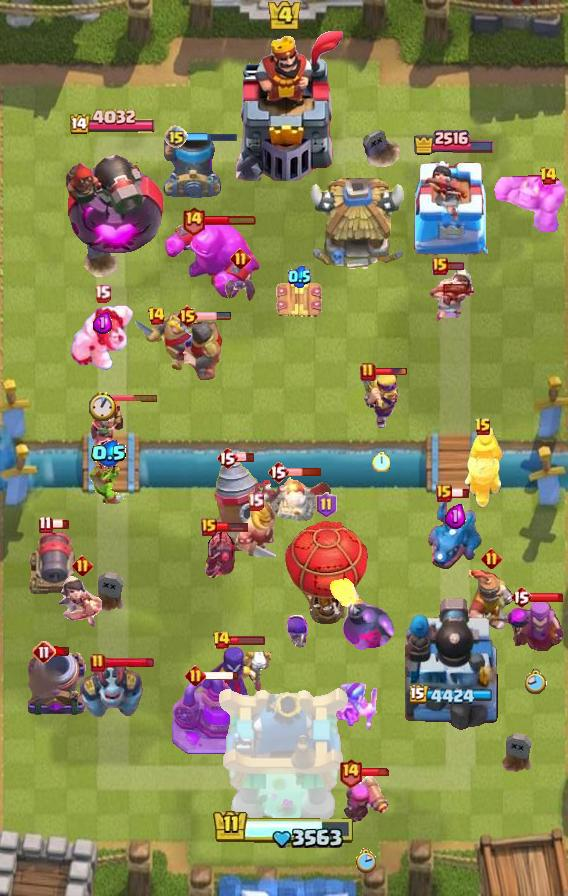bar: (104, 656, 155, 669), (204, 214, 257, 226), (186, 131, 238, 143), (105, 393, 159, 402), (203, 670, 240, 681), (229, 635, 266, 646), (215, 521, 248, 533), (530, 592, 564, 603), (196, 311, 232, 321), (287, 467, 322, 477), (374, 367, 408, 377), (360, 767, 392, 777), (50, 518, 70, 530), (450, 487, 470, 499), (236, 452, 255, 463), (446, 261, 465, 271), (54, 646, 71, 657)
bar-level: (338, 757, 363, 788), (181, 205, 206, 236), (32, 640, 56, 664), (164, 125, 188, 149), (176, 304, 199, 328), (316, 492, 337, 518), (510, 585, 532, 609), (267, 460, 289, 484), (216, 446, 238, 470), (185, 665, 206, 686), (72, 555, 93, 576), (481, 548, 502, 569), (230, 248, 251, 269), (212, 630, 231, 650), (147, 306, 166, 326), (539, 166, 558, 186), (474, 417, 492, 437), (247, 492, 264, 511), (94, 284, 111, 303), (90, 653, 106, 673), (360, 362, 376, 382), (201, 518, 217, 536), (436, 484, 452, 502), (432, 257, 448, 275), (38, 515, 53, 534)
barbarian-evolution: (361, 369, 401, 429)
bat: (223, 273, 257, 303)
bomb: (324, 576, 396, 650)
cannoneer-tower: (405, 595, 501, 731), (64, 138, 164, 256)
clock: (89, 391, 116, 421), (525, 669, 547, 695), (355, 848, 376, 873), (372, 451, 390, 472)
electro-dragon: (426, 497, 484, 571)
elite-barbarian: (235, 501, 276, 557)
elixir: (91, 440, 127, 467), (445, 503, 466, 529), (288, 265, 311, 288), (93, 312, 112, 334)
firecracker: (341, 773, 390, 825)
goblin: (88, 458, 131, 505)
golemite: (493, 174, 568, 234)
king-tower: (216, 684, 352, 826), (223, 31, 345, 181)
king-tower-bar: (212, 809, 356, 851)
knight: (134, 312, 210, 371), (180, 312, 223, 381)
little-prince: (89, 397, 140, 453)
mega-minion: (78, 659, 146, 721)
mini-pekka: (198, 528, 240, 582)
mortar: (163, 134, 223, 198)
mortar-evolution: (25, 648, 89, 718)
mother-witch: (506, 599, 566, 655)
princess: (57, 573, 107, 629), (427, 265, 475, 323)
queen-tower: (407, 158, 499, 256)
ram-rider: (462, 427, 504, 509)
royal-recruit: (459, 570, 523, 632)
skeleton-evolution: (285, 613, 310, 649)
spear-goblin: (332, 682, 380, 734)
tesla: (275, 279, 323, 321)
tower-bar: (70, 108, 158, 137), (412, 128, 495, 156), (410, 685, 497, 707)
witch: (203, 644, 271, 706)
